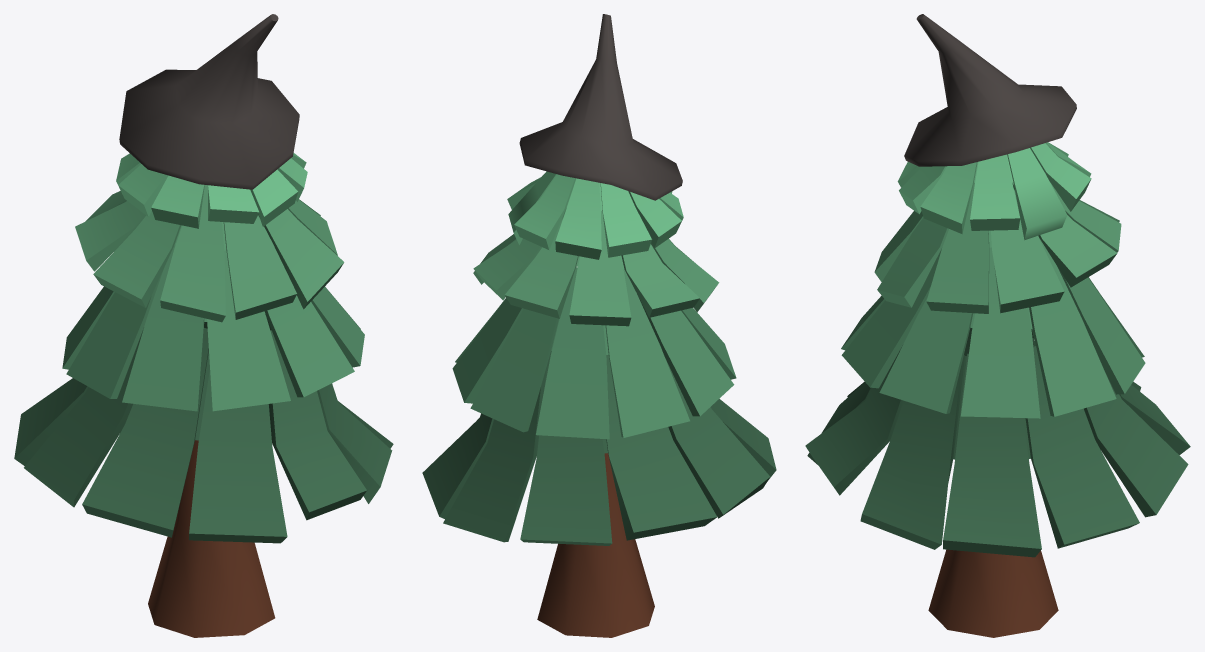
The model's file is Fir2.fbx.
The picture shows the model from 3 angles, left to right: view 1: azimuth 30°, elevation 25°; view 2: azimuth 150°, elevation 25°; view 3: azimuth 270°, elevation 25°; orthographic projection. The views are drawn at different scales.
Parts seen in each view (by area): view 1: Circle.002; view 2: Circle.002; view 3: Circle.002.
Boxes of the visible parts, box(x1,y1,x2,y2) form: Circle.002: box(14, 14, 393, 637); Circle.002: box(422, 14, 776, 637); Circle.002: box(805, 14, 1190, 637).
Bounding box in the file's own units: 2.45 × 4.49 × 2.58.
